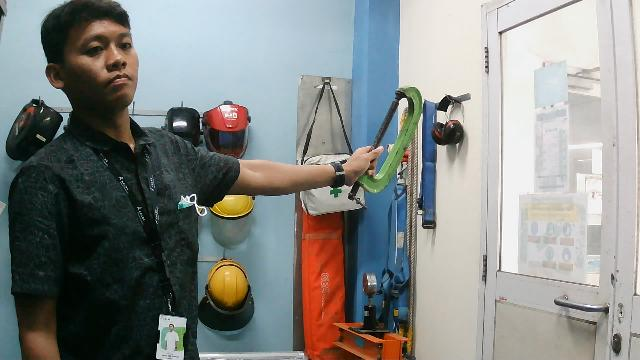tekiro_c_clamp: (341, 74, 428, 215)
